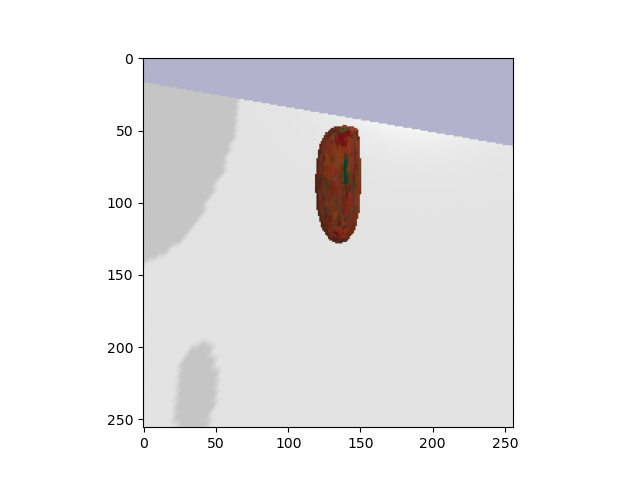v249b387_106: (307, 119, 371, 255)
